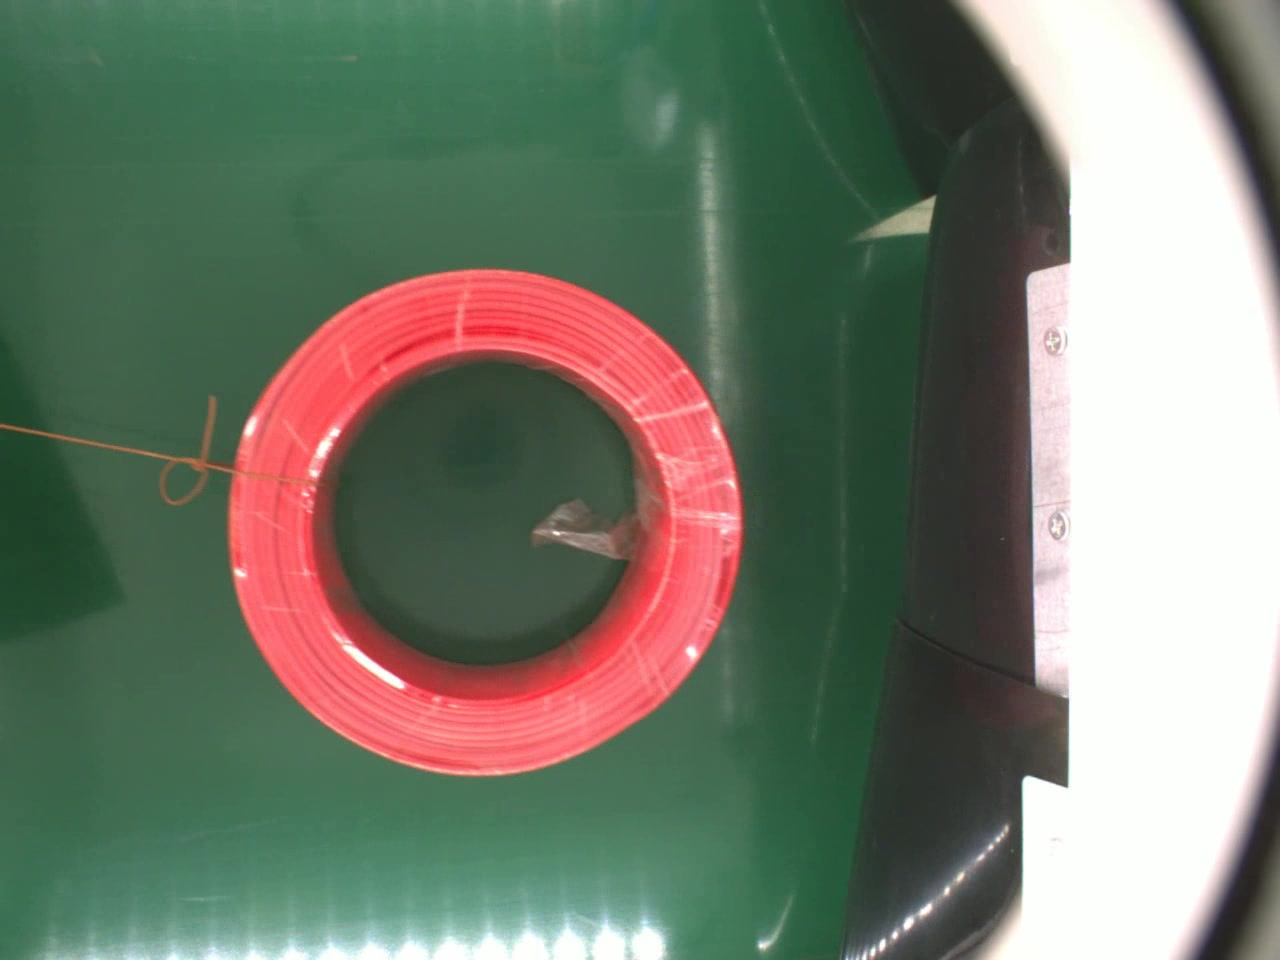red: (222, 263, 748, 778)
